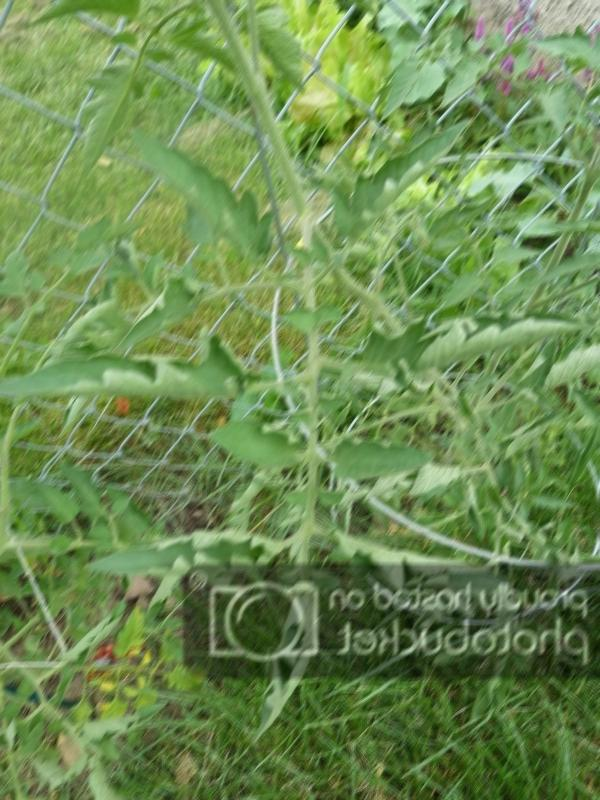Tomato mold leaf: (127, 129, 277, 259), (11, 334, 255, 411), (345, 314, 580, 376), (207, 417, 312, 482), (331, 438, 437, 487)
